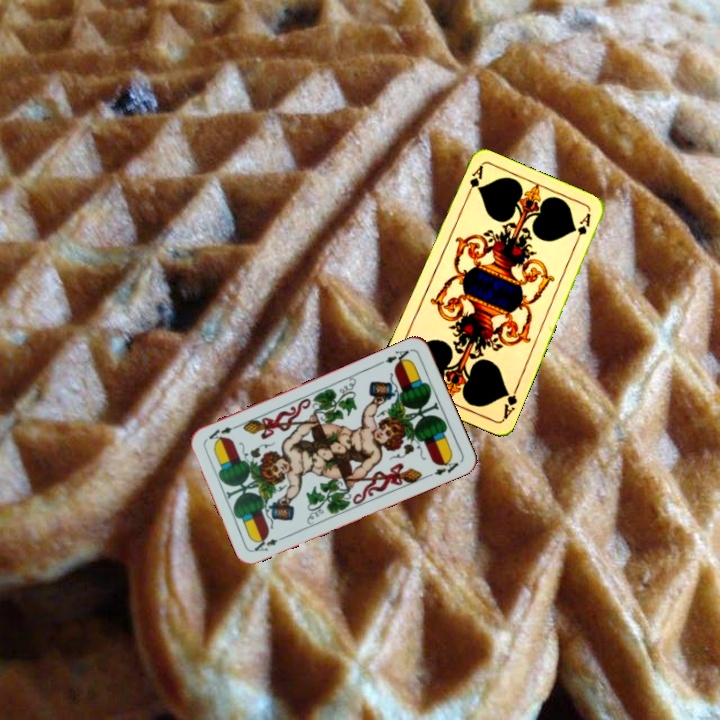EA: (250, 532, 288, 554), (381, 345, 414, 369)
GA: (462, 162, 485, 201), (499, 382, 521, 422)
